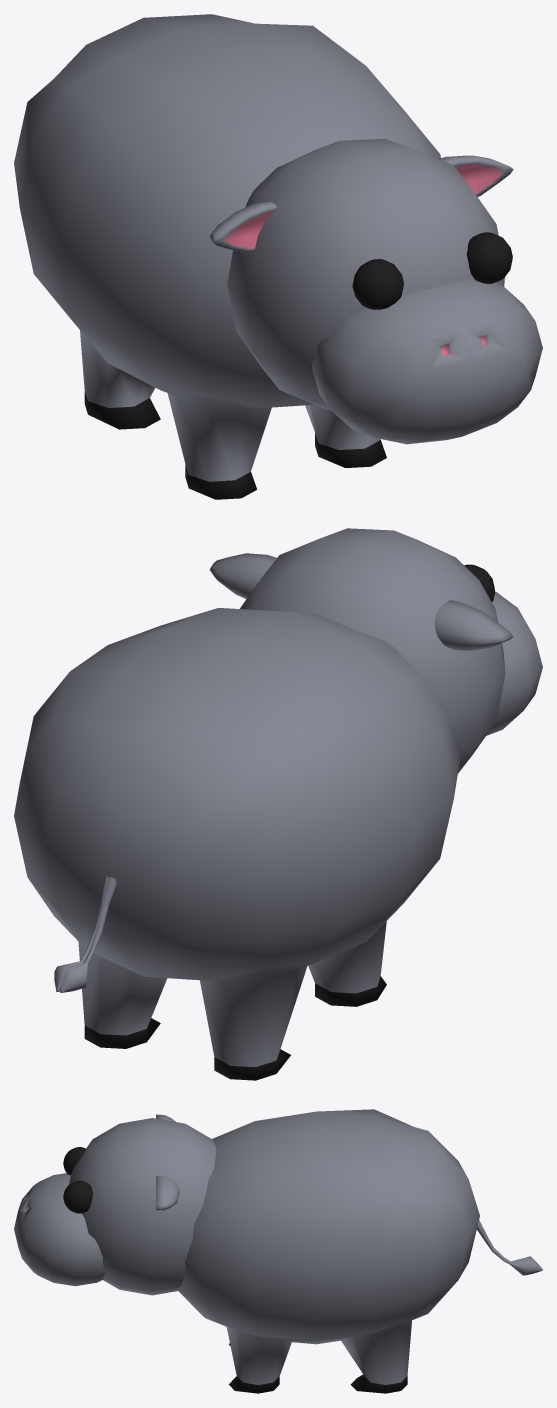
File: Hippo.fbx
3 renders of one model, top to bottom at view 1: azimuth 30°, elevation 25°; view 2: azimuth 150°, elevation 25°; view 3: azimuth 270°, elevation 25°, orthographic. The views are drawn at different scales.
Parts seen in each view (by area): view 1: HIPO.001; view 2: HIPO.001; view 3: HIPO.001.
Part boxes in pixels (x1=…): HIPO.001: x1=14, y1=14, x2=542, y2=499; HIPO.001: x1=14, y1=528, x2=542, y2=1080; HIPO.001: x1=14, y1=1109, x2=542, y2=1393.
Bounding box in the file's own units: 194 × 195 × 394.
1 material, 1 textured.
